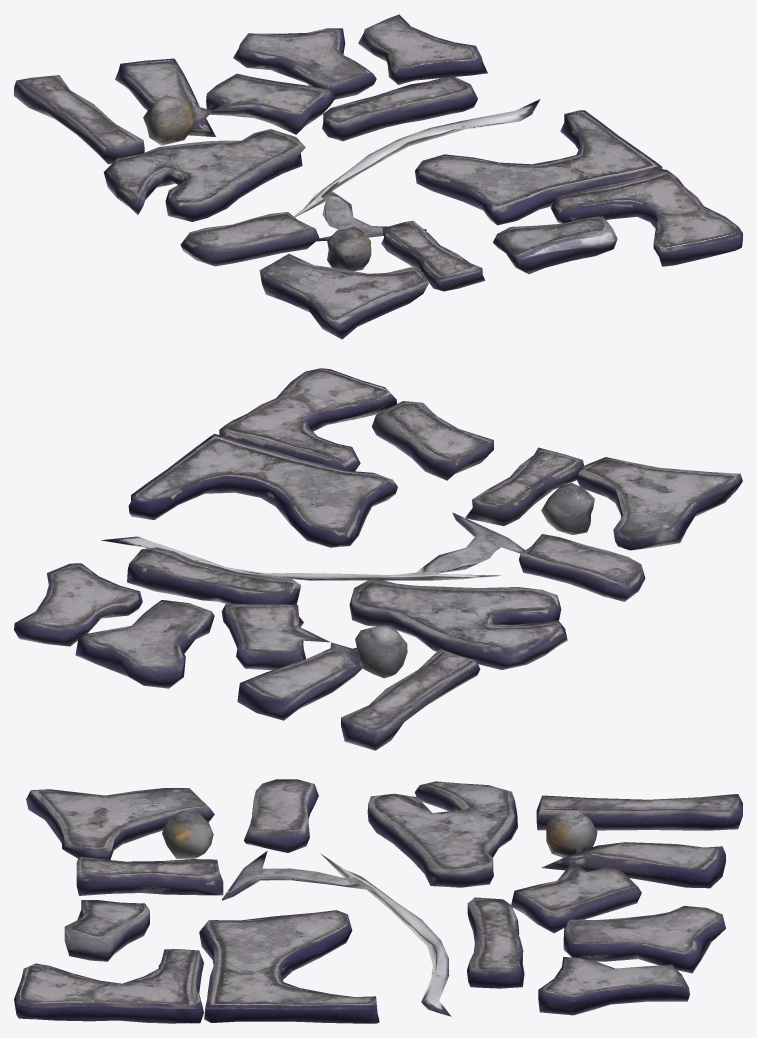
File: cp_cinza_gelo.glb
3 renders of one model, top to bottom at view 1: azimuth 30°, elevation 25°; view 2: azimuth 150°, elevation 25°; view 3: azimuth 270°, elevation 25°, orthographic. The views are drawn at different scales.
Visible parts, largest first — view 1: Mesh_0.002; view 2: Mesh_0.002; view 3: Mesh_0.002.
Part boxes in pixels (x1,y1,x2,y2): Mesh_0.002: (14,14,742,339); Mesh_0.002: (14,368,742,750); Mesh_0.002: (14,779,742,1023).
Bounding box in the file's own units: 0.2188 × 0.021 × 0.2959.
1 material, 1 textured.
